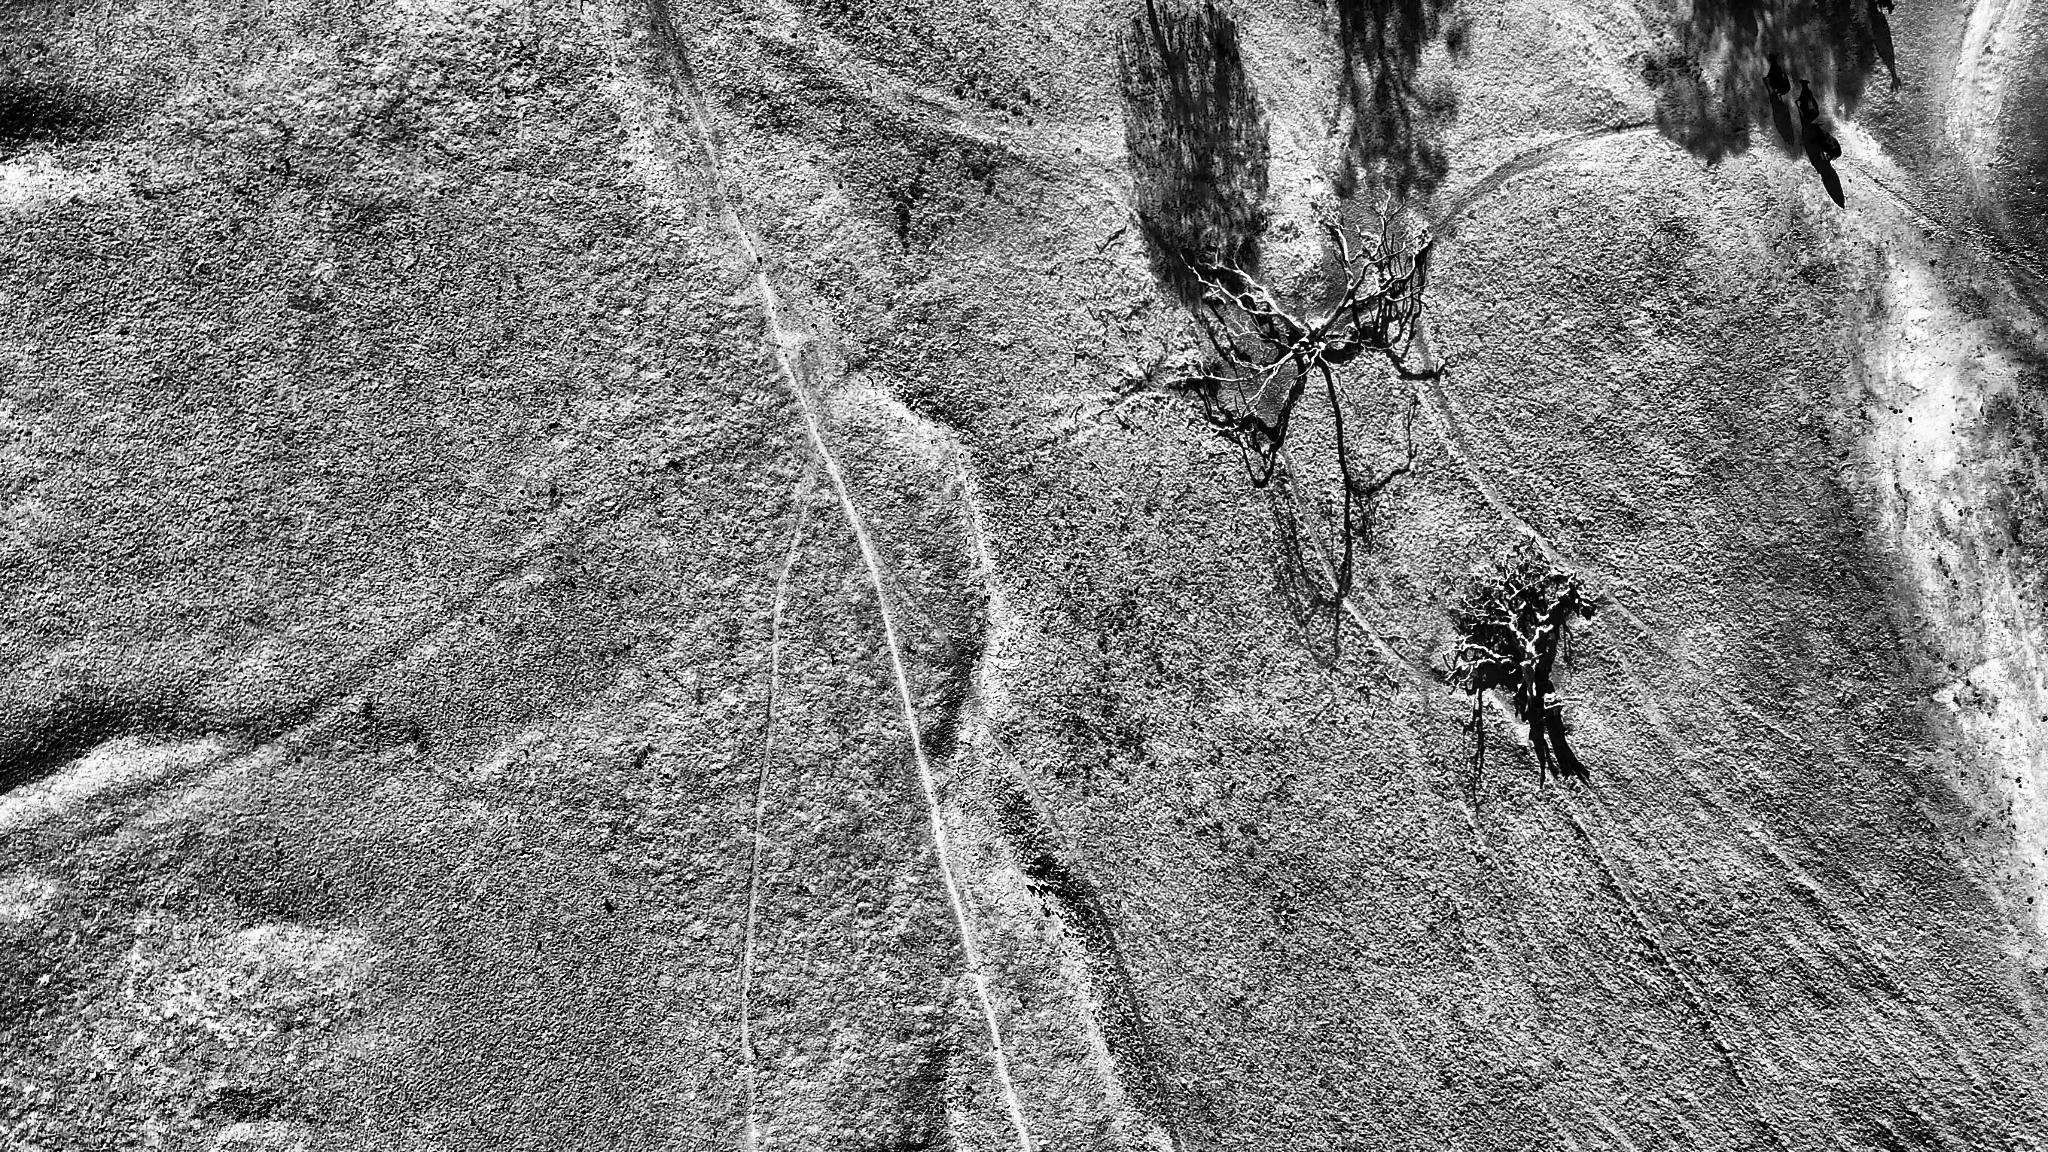herd: (1809, 125, 1844, 174), (1765, 51, 1793, 105), (1798, 75, 1820, 124), (1872, 0, 1899, 14)
